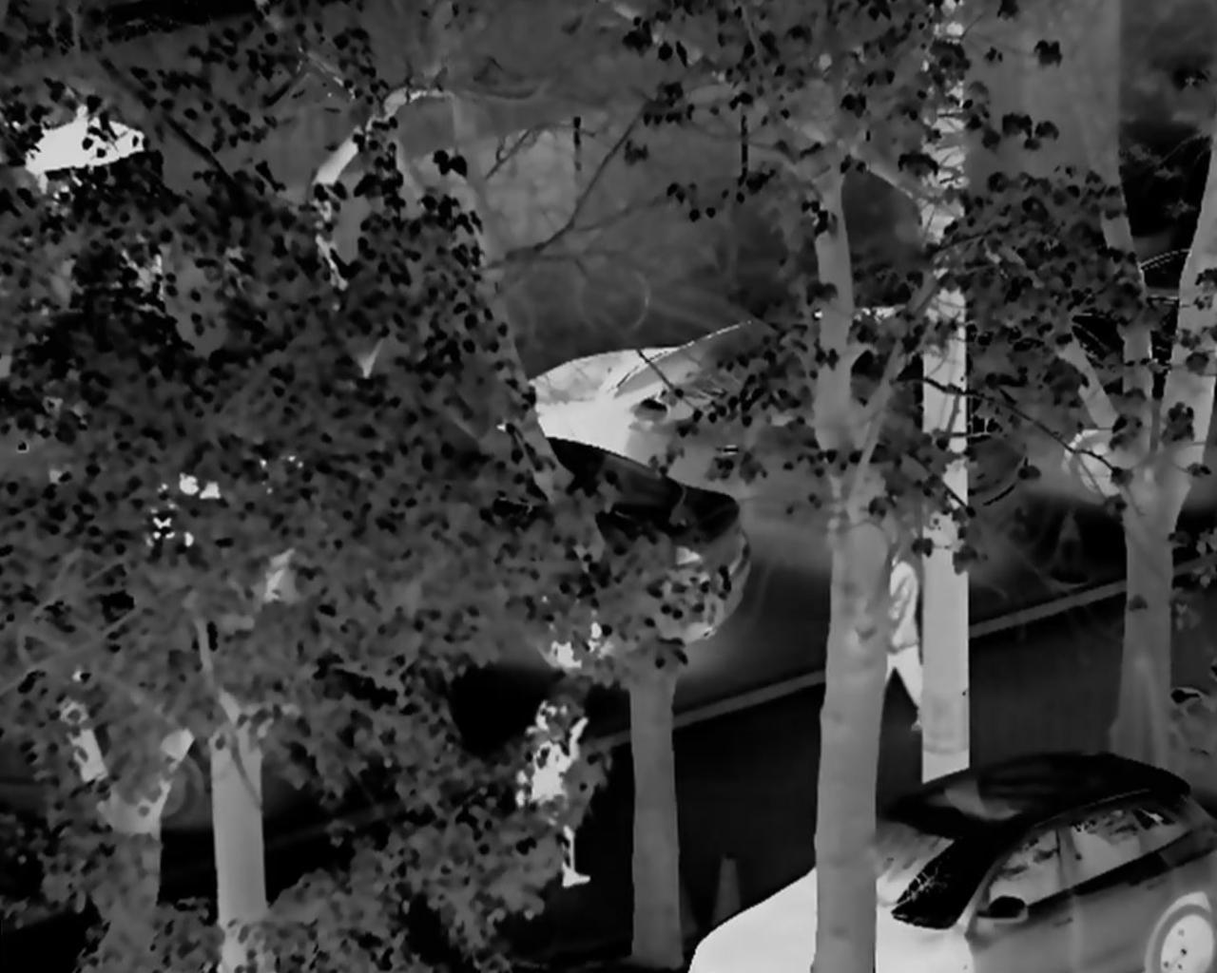person: (515, 698, 593, 896), (866, 547, 932, 750)
